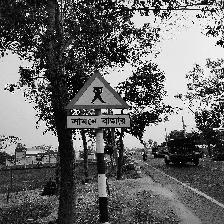Market-in-front: (64, 72, 132, 130)
